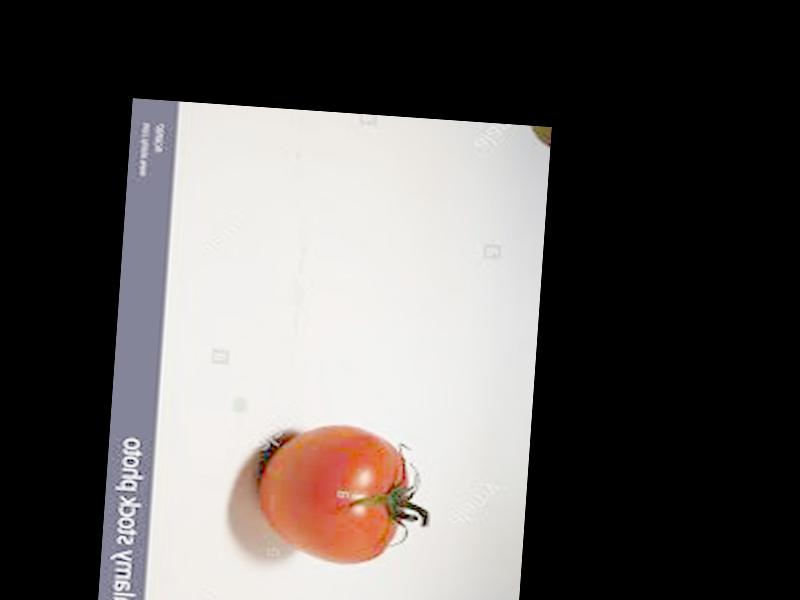Tomato: (254, 420, 409, 566)
